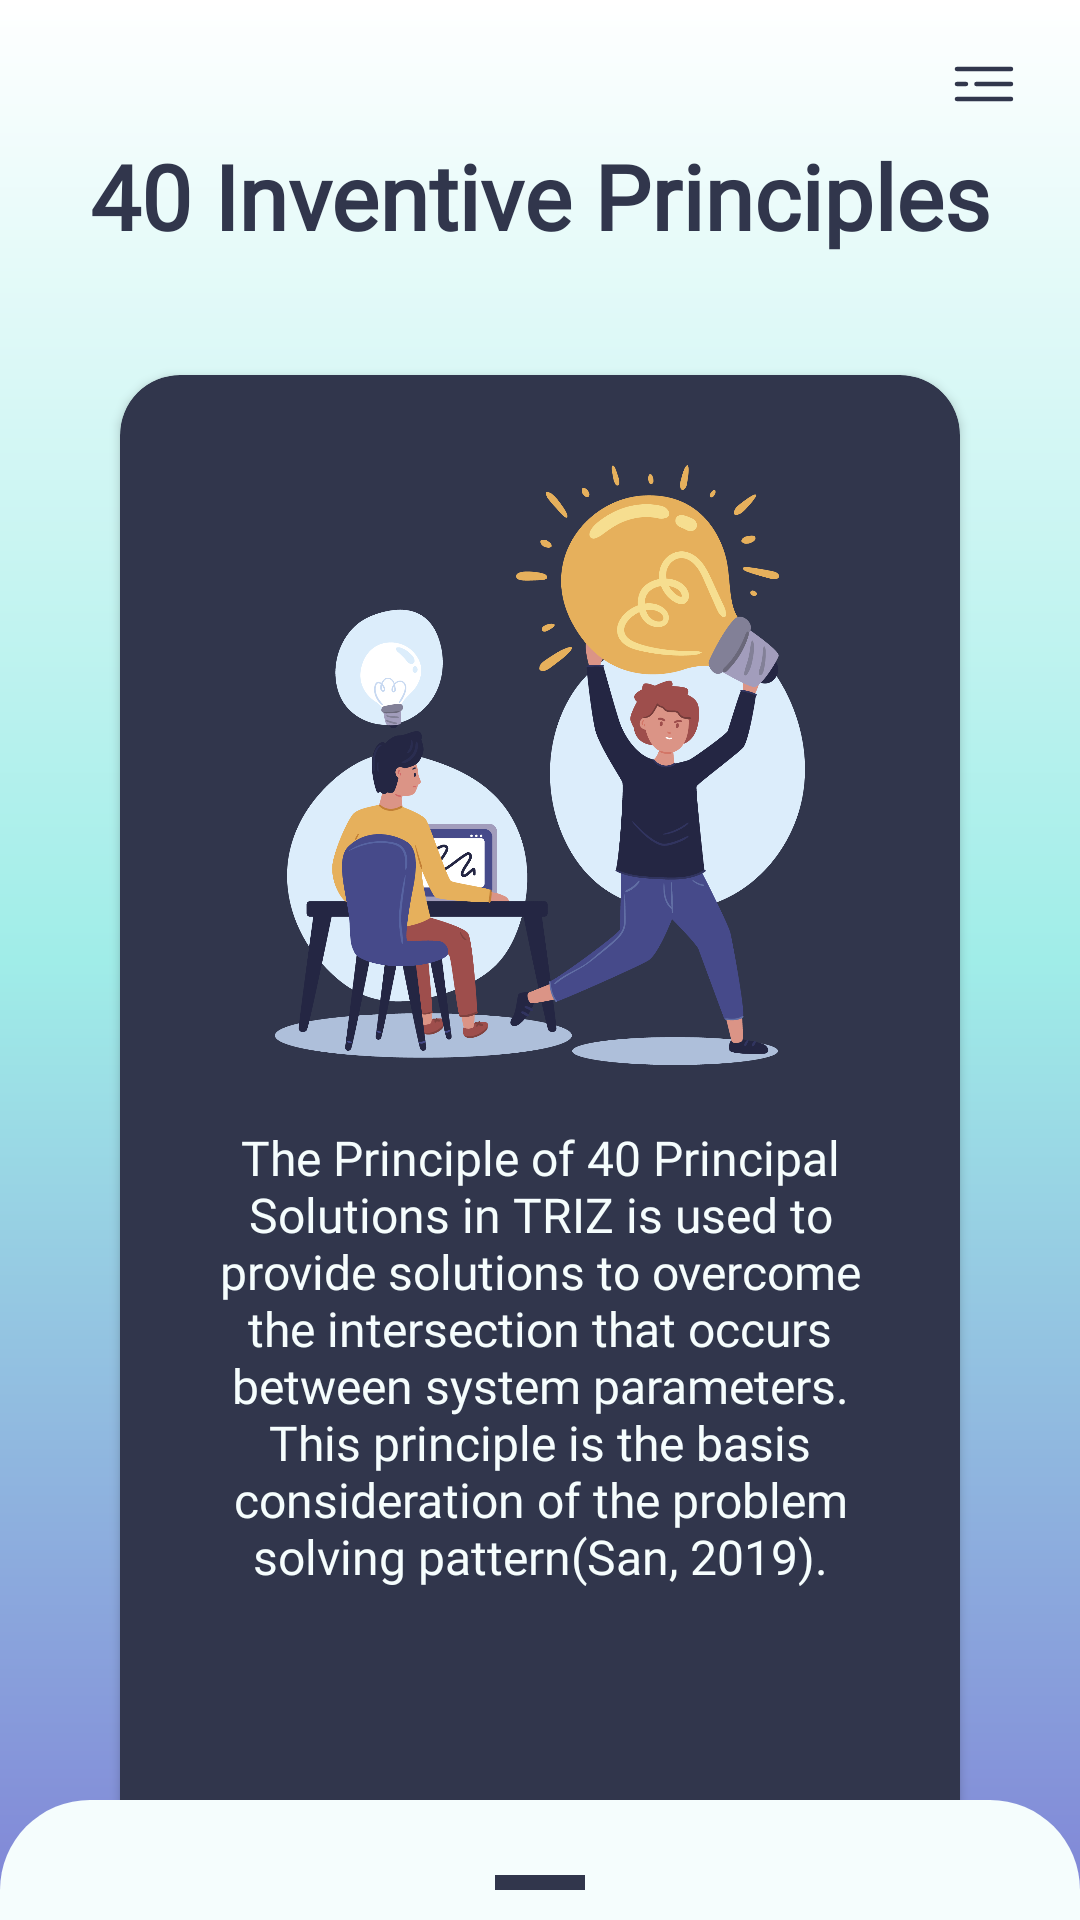

Icon click points for this 1080w x 1920h phone screenshot, format [x,y]:
hambergermenu: [983,84]
